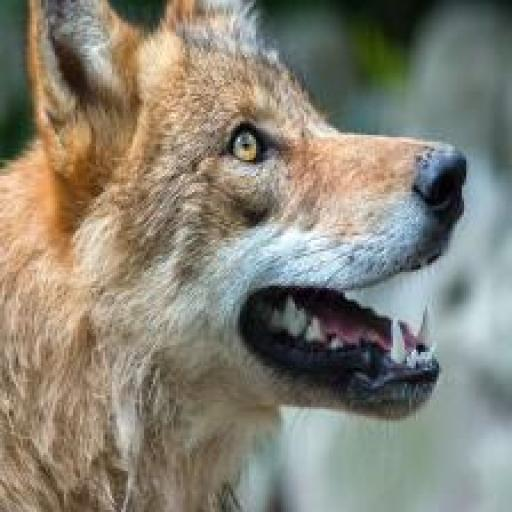wolf: (0, 0, 471, 511)
